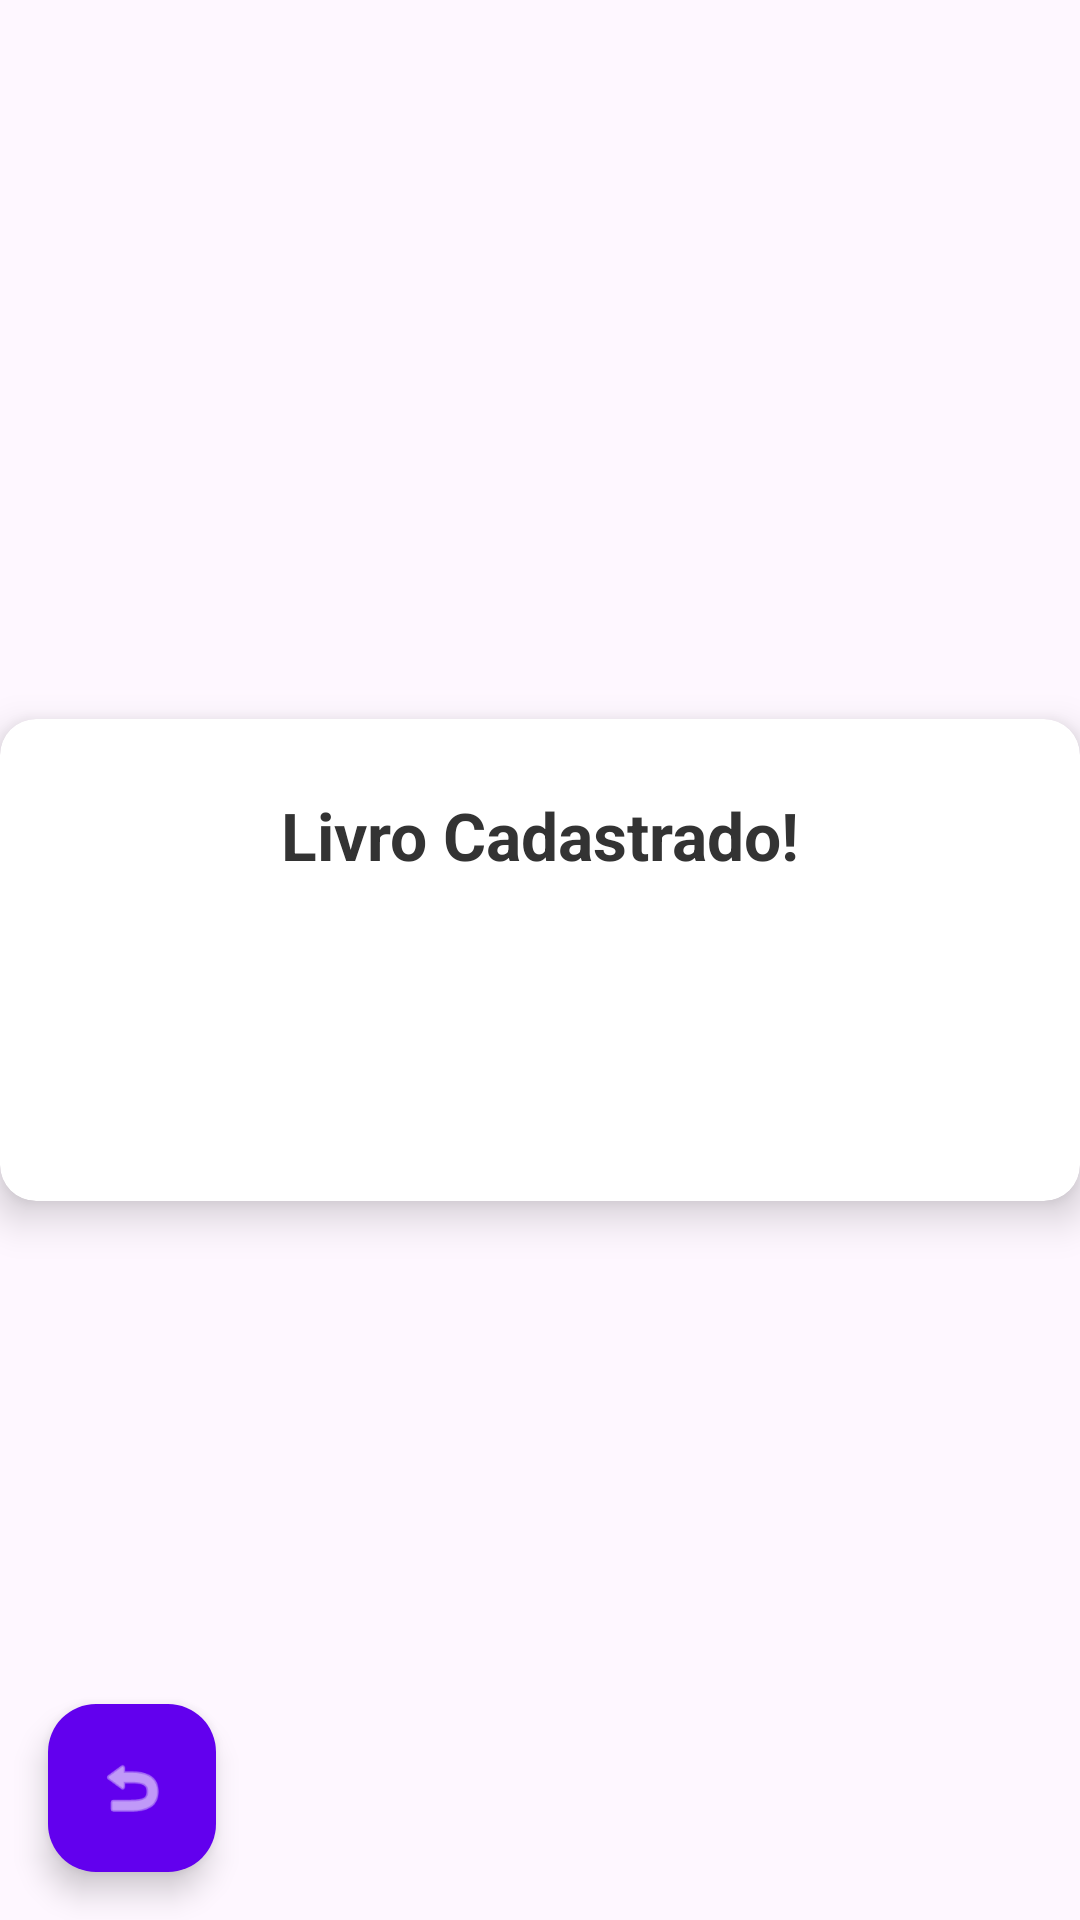

Screen size 1080*1920. Icon name, then its center in pixels as (x,y):
Voltar: (132,1788)
